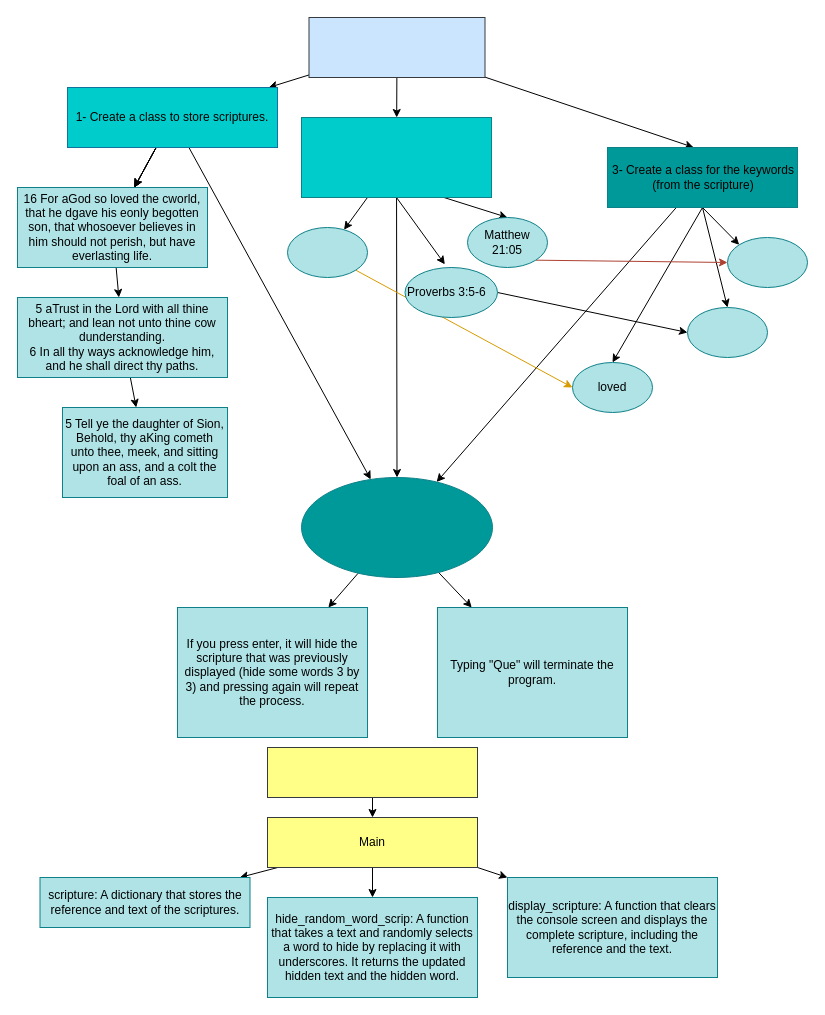
This 825x1015 diagram has some shape labels left out. The shapes that lost their labels are listed below. From the top down, each one's centre as x and y in pixels, then its label:
point (396, 47): Scripture Memorizer
point (396, 157): 2- Create a class for Reference (book, chapter and verse number)
point (327, 252): John 3:16
point (767, 262): King
point (727, 332): Trust
point (396, 527): Press enter to continue or type "quit" to Finish
point (372, 772): Possible attributes that we will use:
